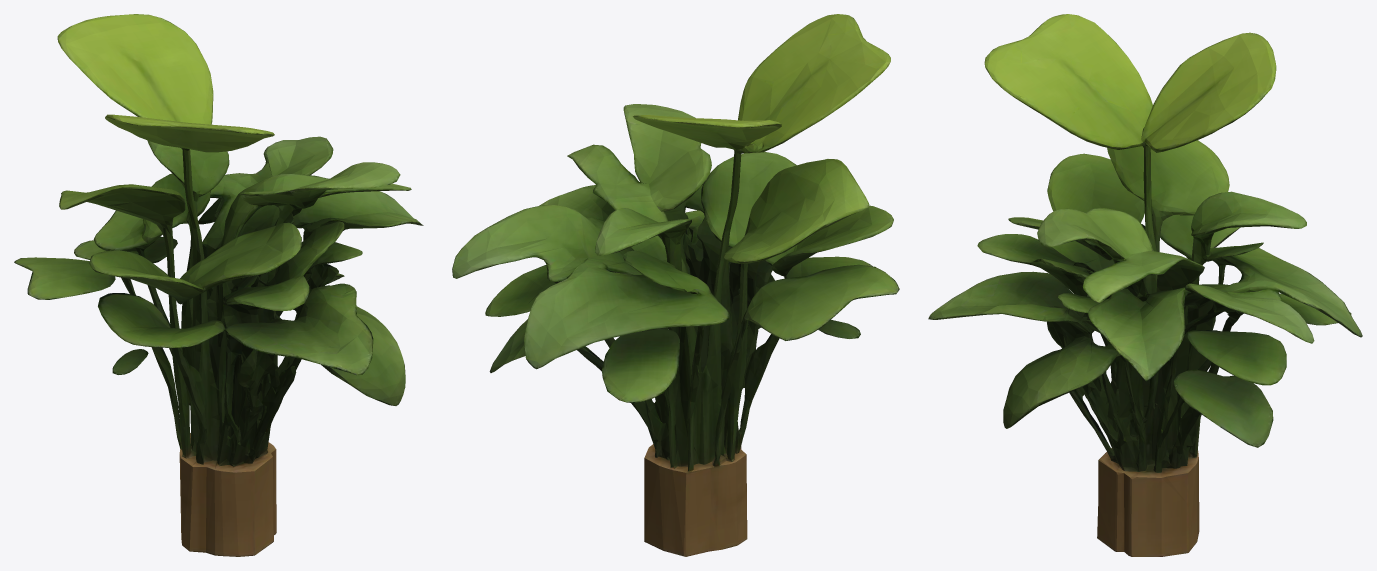
File: houseplant.glb
The picture shows the model from 3 angles, left to right: view 1: azimuth 30°, elevation 25°; view 2: azimuth 150°, elevation 25°; view 3: azimuth 270°, elevation 25°; orthographic projection. The views are drawn at different scales.
Visible parts, largest first — view 1: geometry_0; view 2: geometry_0; view 3: geometry_0.
Boxes of the visible parts, x1,y1,x2,y2 form: geometry_0: (14,14,423,556); geometry_0: (452,14,899,556); geometry_0: (928,14,1362,556).
Bounding box in the file's own units: 0.8527 × 0.9997 × 0.8634.
1 material, 1 textured.
